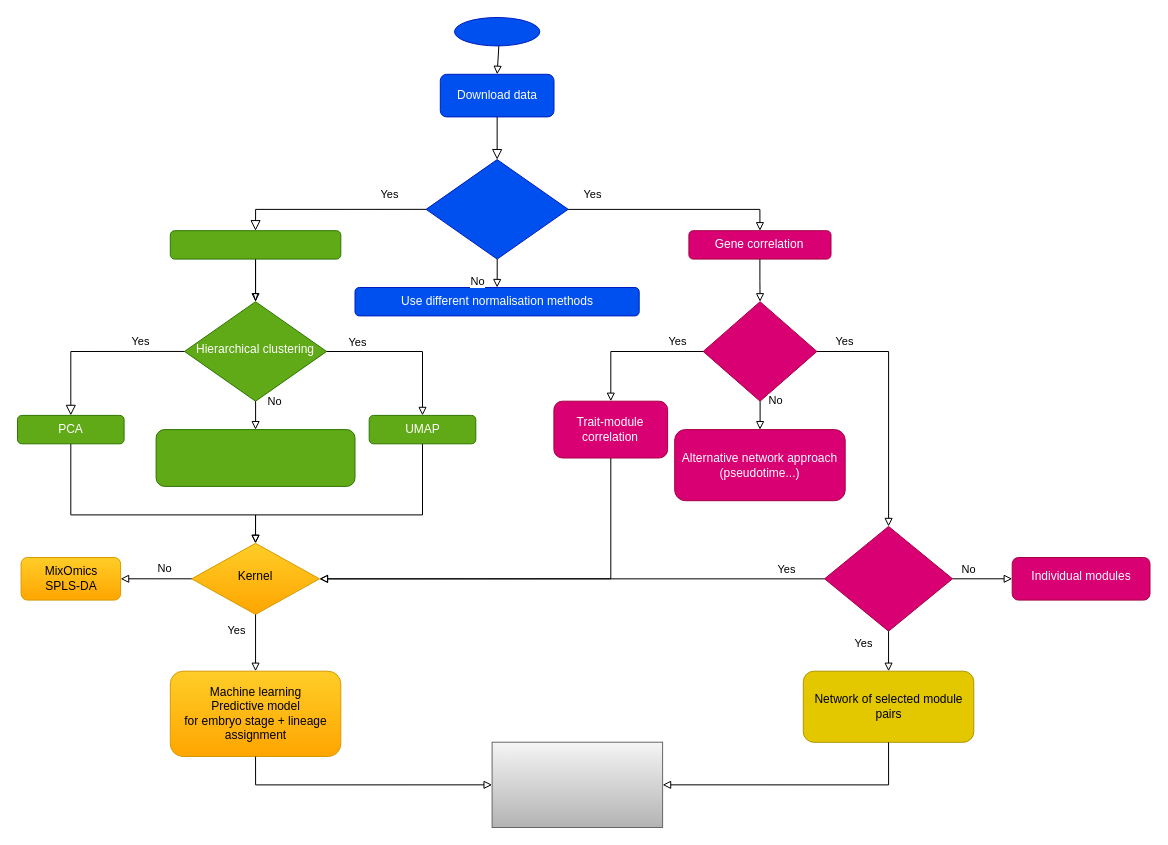
This 1168x845 diagram has some shape labels left out. The centre of each missing label's shape, as x and y in pixels:
Alternative distance metrics and clustering methods: [255,457]
END: [577,784]
Inter-cell vicinity: [255,244]
Intermodule correlation: [888,578]
Pre-processing: [496,209]
START: [497,31]
WGCNA: [759,351]
